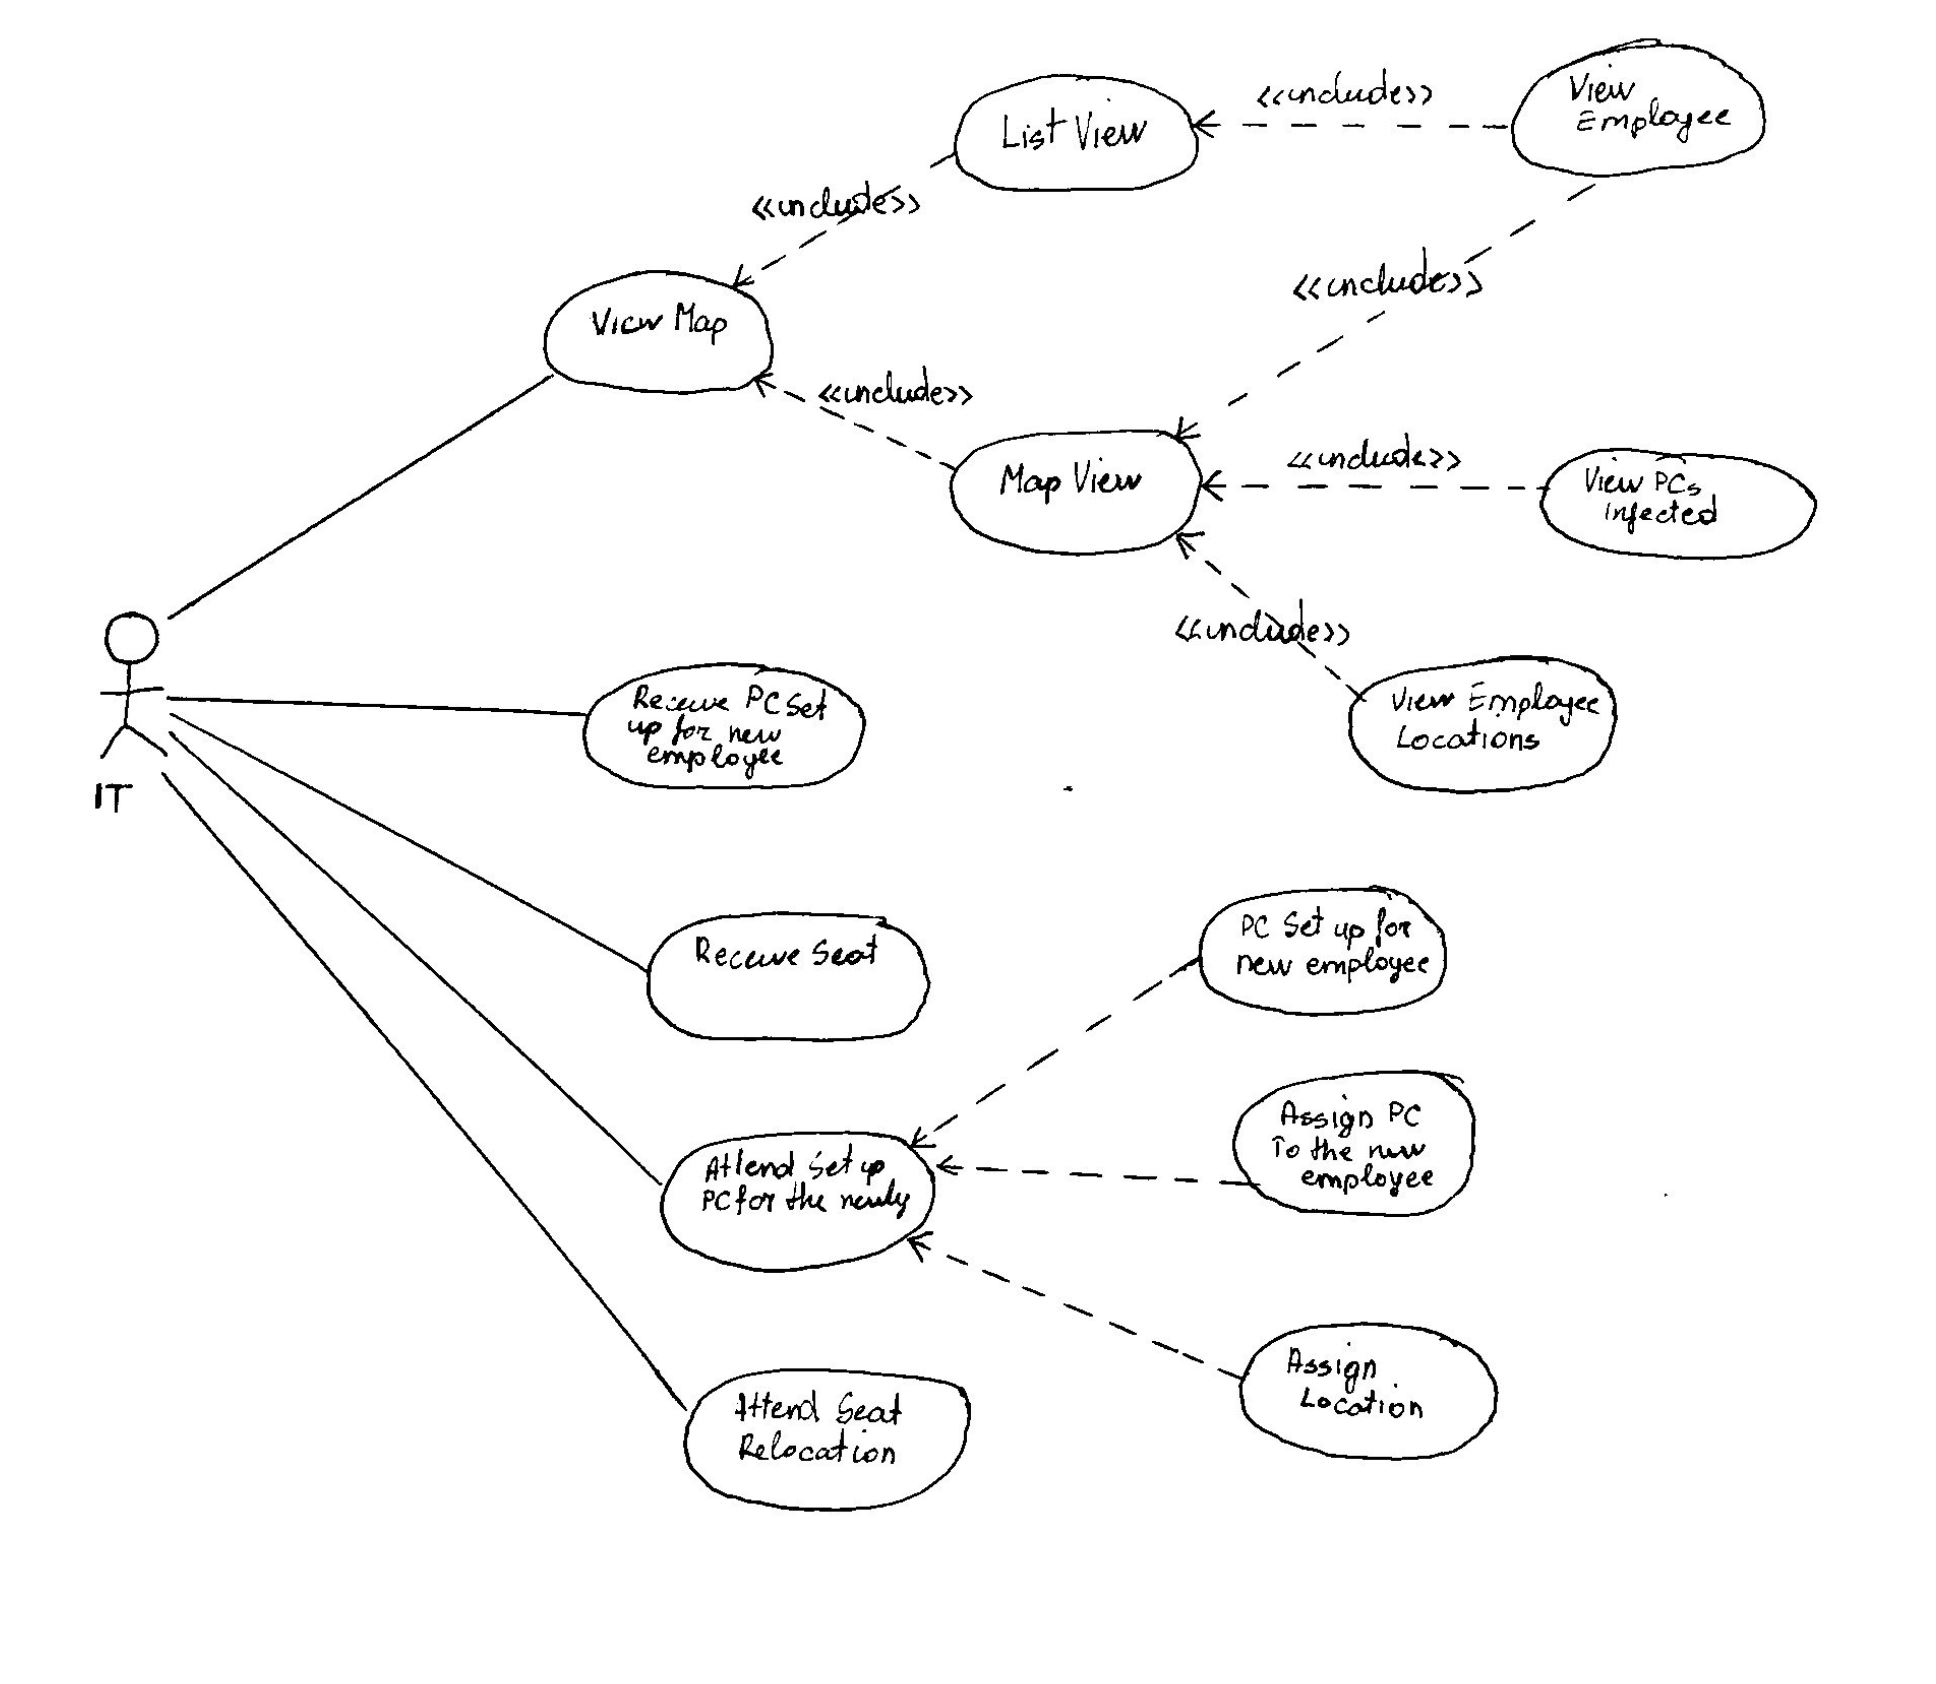actor: (87, 607, 171, 774)
association: (160, 764, 682, 1412), (171, 729, 665, 1189), (161, 706, 649, 970), (1175, 179, 1599, 446), (163, 369, 555, 617), (909, 955, 1200, 1152), (905, 1230, 1236, 1384), (733, 150, 956, 285), (1175, 528, 1358, 691), (161, 673, 588, 729), (751, 370, 956, 472), (1195, 95, 1515, 151), (933, 1146, 1231, 1197), (1203, 463, 1566, 500)
text: (627, 682, 831, 780), (728, 1383, 920, 1482), (696, 1141, 909, 1230), (1388, 677, 1599, 761), (1266, 1096, 1440, 1197), (1276, 1337, 1434, 1439), (1230, 907, 1431, 986), (1566, 71, 1743, 143), (686, 927, 892, 989), (993, 451, 1180, 514), (1282, 420, 1473, 474), (1287, 263, 1511, 309), (1246, 63, 1440, 114), (1582, 468, 1722, 537), (988, 105, 1172, 156), (1167, 604, 1360, 650), (746, 181, 928, 224), (593, 298, 734, 351), (826, 364, 970, 415), (81, 779, 147, 825)
use_case: (682, 1368, 971, 1513), (654, 1128, 937, 1272), (644, 907, 932, 1045), (583, 657, 866, 795), (1345, 654, 1618, 797), (1230, 1067, 1482, 1218), (1240, 1317, 1496, 1462), (1508, 36, 1765, 179), (947, 426, 1207, 558), (1198, 886, 1450, 1017), (1538, 448, 1819, 565), (953, 71, 1203, 198), (543, 267, 772, 397)
